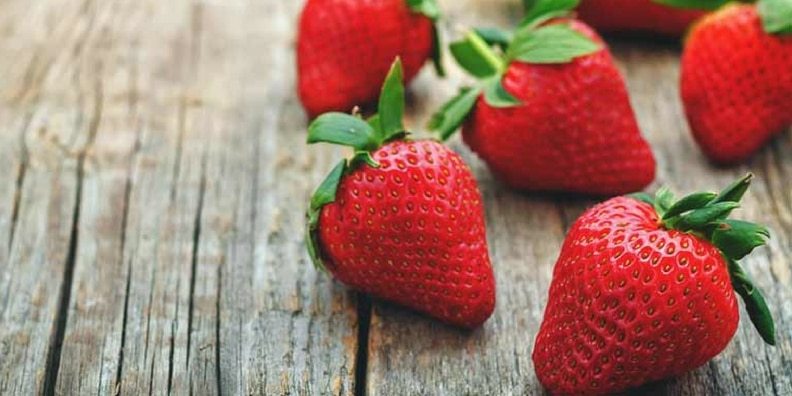ripe_strawberry: (531, 192, 743, 396), (308, 136, 498, 331), (459, 14, 657, 200), (679, 1, 792, 170), (293, 1, 436, 120)
